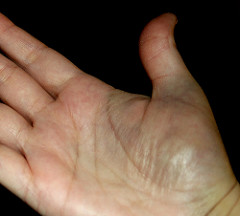palm: (36, 87, 207, 209)
